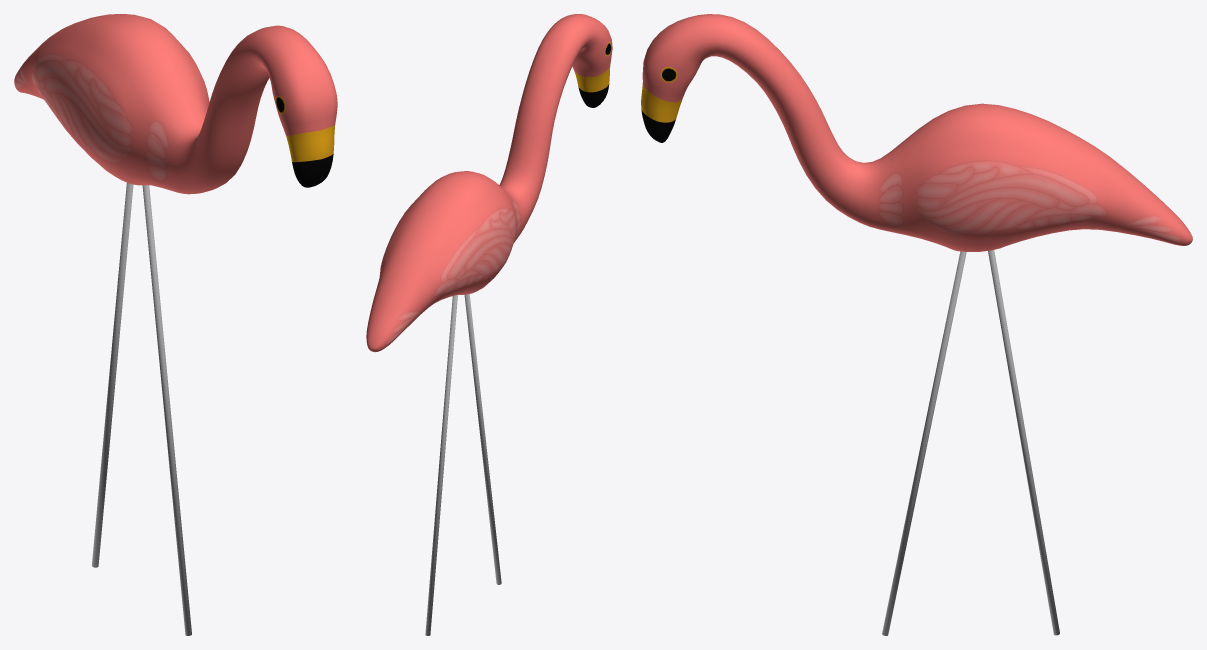
The model's file is Flamingo.fbx.
The picture shows the model from 3 angles, left to right: view 1: azimuth 30°, elevation 25°; view 2: azimuth 150°, elevation 25°; view 3: azimuth 270°, elevation 25°; orthographic projection. The views are drawn at different scales.
Parts seen in each view (by area): view 1: Flamingo_LOD0; view 2: Flamingo_LOD0; view 3: Flamingo_LOD0.
Part boxes in pixels (<box>): Flamingo_LOD0: <box>14,14,337,635</box>; Flamingo_LOD0: <box>366,14,612,635</box>; Flamingo_LOD0: <box>641,14,1192,635</box>.
Size of what is drawn, in the model's own units: 15.69 by 90.52 by 73.17.
